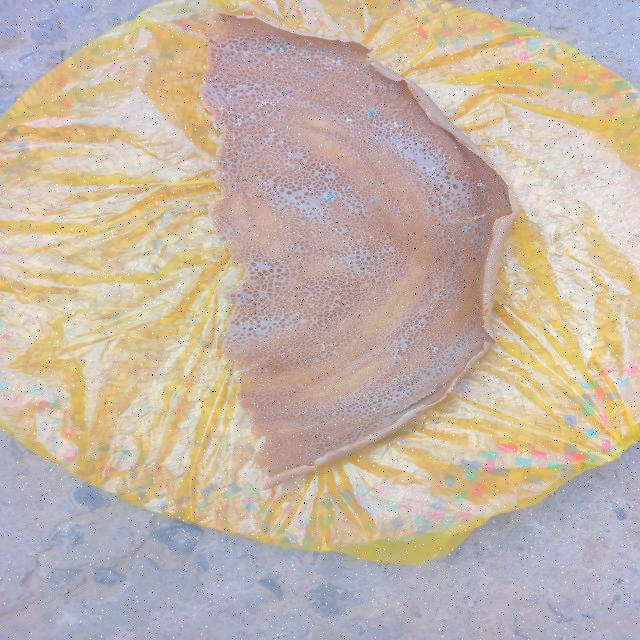injera_mold: (259, 100, 280, 106), (326, 58, 335, 68), (368, 109, 376, 119), (326, 193, 336, 200), (237, 114, 242, 127), (345, 116, 353, 123), (335, 59, 342, 66), (306, 42, 314, 48), (477, 182, 486, 187), (280, 46, 288, 51), (302, 55, 312, 59), (306, 70, 312, 76), (342, 187, 351, 191), (370, 196, 376, 202), (462, 226, 468, 232), (230, 121, 237, 126), (394, 121, 399, 128), (302, 50, 308, 55), (374, 138, 380, 143), (336, 55, 346, 58), (433, 346, 437, 353), (390, 84, 395, 89), (318, 144, 323, 149), (266, 47, 272, 51), (230, 52, 236, 56), (320, 49, 326, 53), (217, 107, 225, 110), (464, 174, 470, 178), (454, 144, 458, 150), (344, 84, 351, 87), (338, 51, 343, 55), (295, 66, 299, 71), (219, 112, 224, 116), (330, 51, 334, 56), (228, 44, 232, 48), (285, 125, 289, 129), (350, 134, 354, 138), (362, 71, 367, 74), (337, 68, 344, 70), (432, 167, 436, 170), (466, 196, 470, 199), (412, 384, 415, 388), (432, 386, 438, 388), (357, 68, 363, 70), (316, 55, 320, 58), (316, 63, 321, 65), (384, 400, 388, 402), (415, 395, 419, 397), (360, 424, 362, 428), (288, 77, 292, 79), (385, 391, 387, 394), (407, 386, 410, 388), (371, 427, 377, 428), (287, 89, 290, 91), (264, 111, 269, 112), (251, 113, 254, 114)
